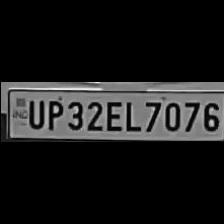0: (160, 98, 182, 132)
2: (84, 98, 103, 132)
3: (64, 97, 82, 130)
6: (199, 100, 221, 132)
7: (140, 98, 160, 132), (180, 98, 198, 132)
E: (104, 98, 122, 132)
L: (121, 98, 139, 132)
P: (44, 97, 62, 130)
U: (24, 97, 42, 128)
